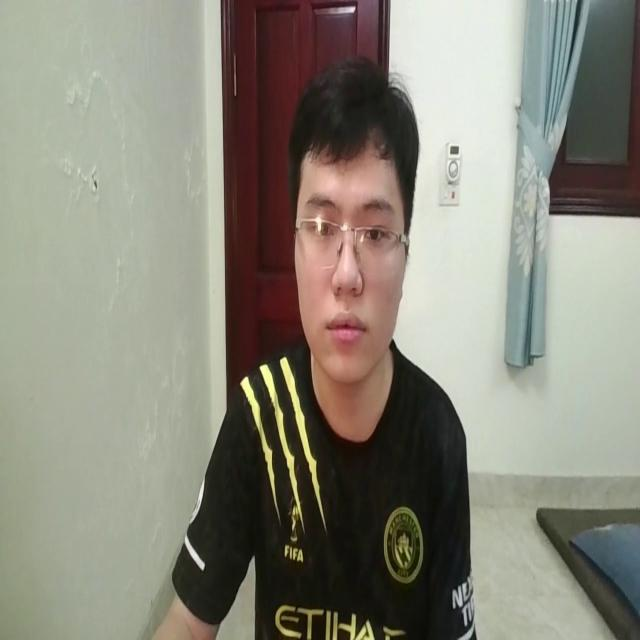student: (142, 50, 473, 640)
